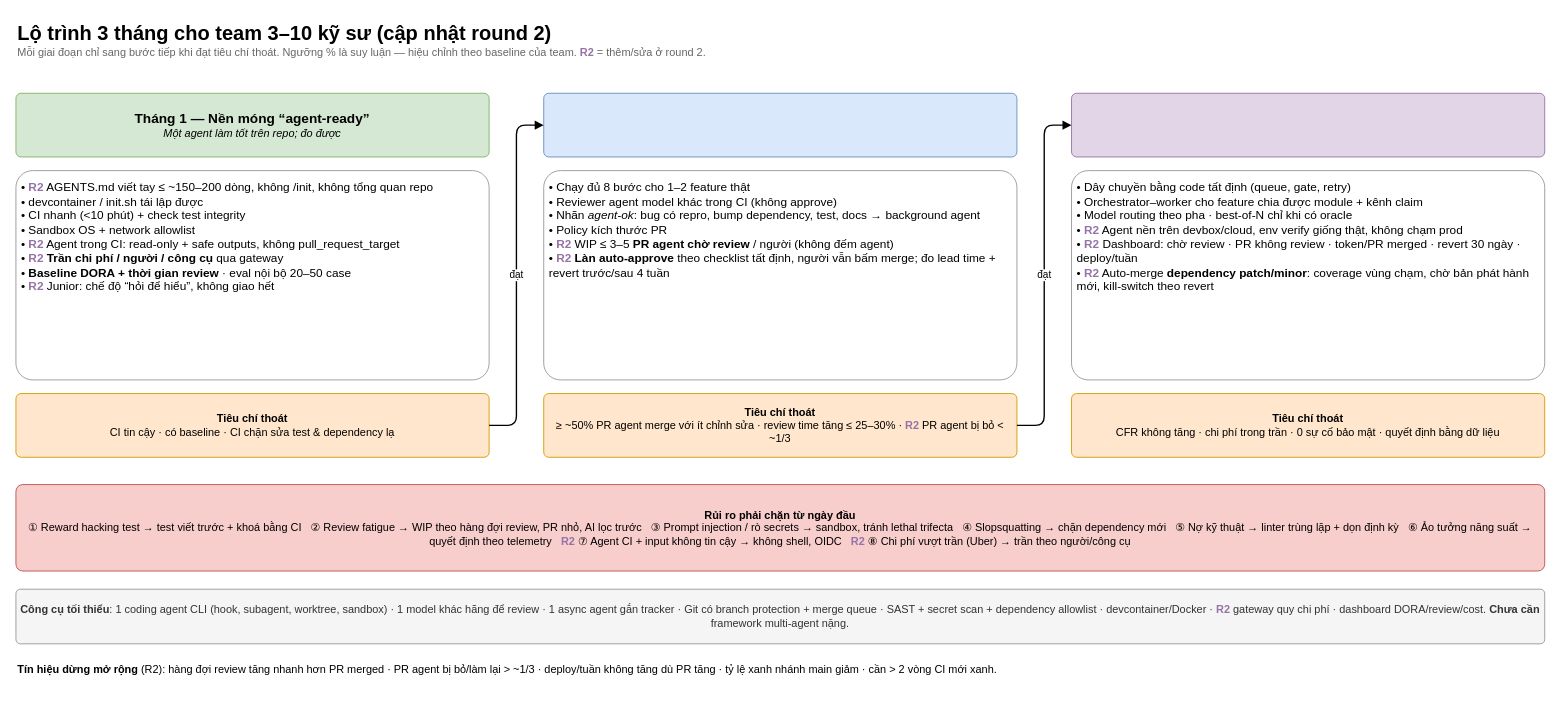
Image size: 1561x718. Some labels were removed from this diagram. The centre of each missing label's shape, as x and y in pixels:
Tháng 2 — Có cấu trúc + async Spec, verify, việc vặt chạy nền: point (780, 124)
Tháng 3 — Song song có kiểm soát Factory nhỏ, dùng chung cả team: point (1308, 124)
